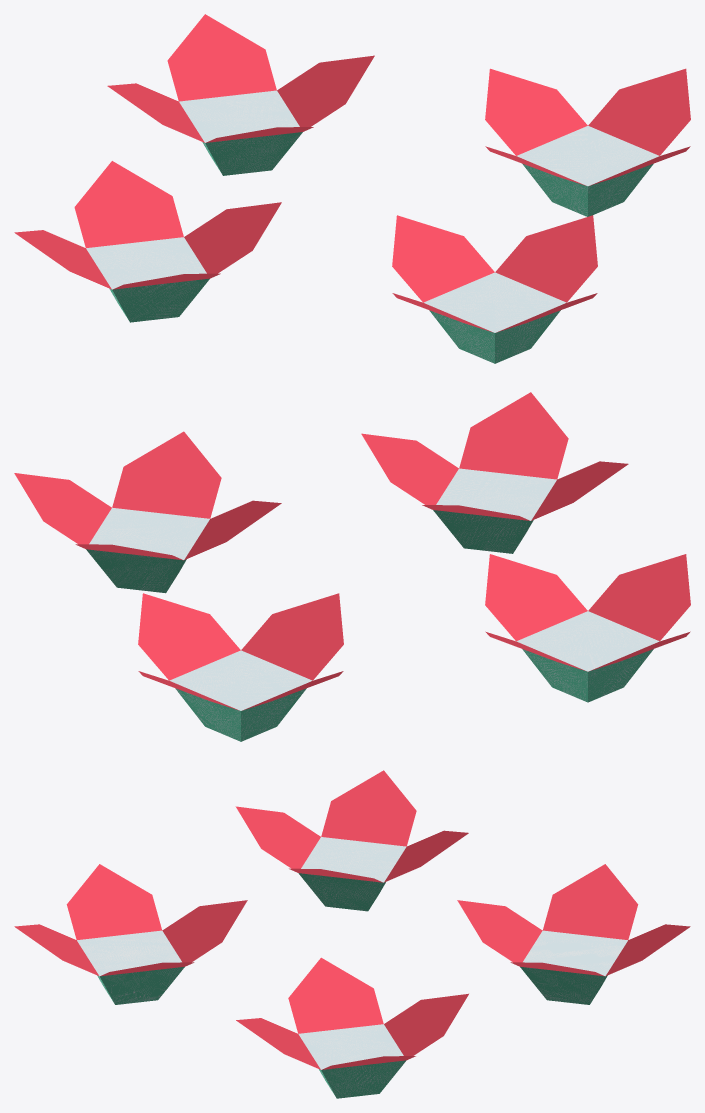
The model's file is flowersLow.obj.
3 views of the same model, one above another, from view 1: azimuth 30°, elevation 25°; view 2: azimuth 150°, elevation 25°; view 3: azimuth 270°, elevation 25° (orthographic). The views are drawn at different scales.
Parts seen in each view (by area): view 1: flowersLow; view 2: flowersLow; view 3: flowersLow.
Boxes of the visible parts, bbox=[...] form: flowersLow: bbox=[14, 14, 690, 363]; flowersLow: bbox=[14, 392, 690, 741]; flowersLow: bbox=[14, 770, 690, 1098].
Size of the model in its own units: 0.7639 by 0.1 by 0.7639.
